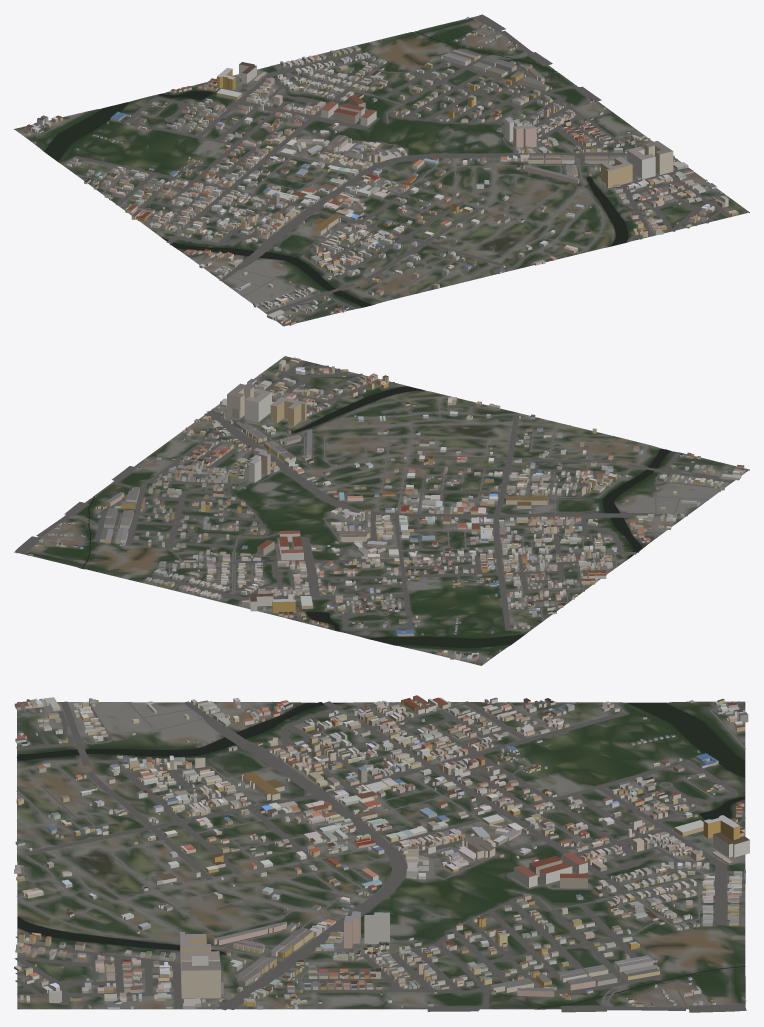
The picture shows the model from 3 angles, top to bottom: view 1: azimuth 30°, elevation 25°; view 2: azimuth 150°, elevation 25°; view 3: azimuth 270°, elevation 25°; orthographic projection. The views are drawn at different scales.
Parts seen in each view (by area): view 1: ground, buildings, roads, water; view 2: ground, buildings, roads, water; view 3: ground, buildings, roads, water.
Boxes of the visible parts, x1,y1,x2,y2 form: ground: (14,17,749,326); buildings: (22,17,738,325); roads: (14,14,732,325); water: (44,31,628,307); ground: (16,356,749,665); buildings: (28,357,745,661); roads: (14,360,748,665); water: (81,386,670,648); ground: (17,701,745,1009); buildings: (14,695,749,1009); roads: (14,701,746,1012); water: (17,702,745,1009).
Bounding box in the file's own units: 1428 × 65.14 × 1415.
